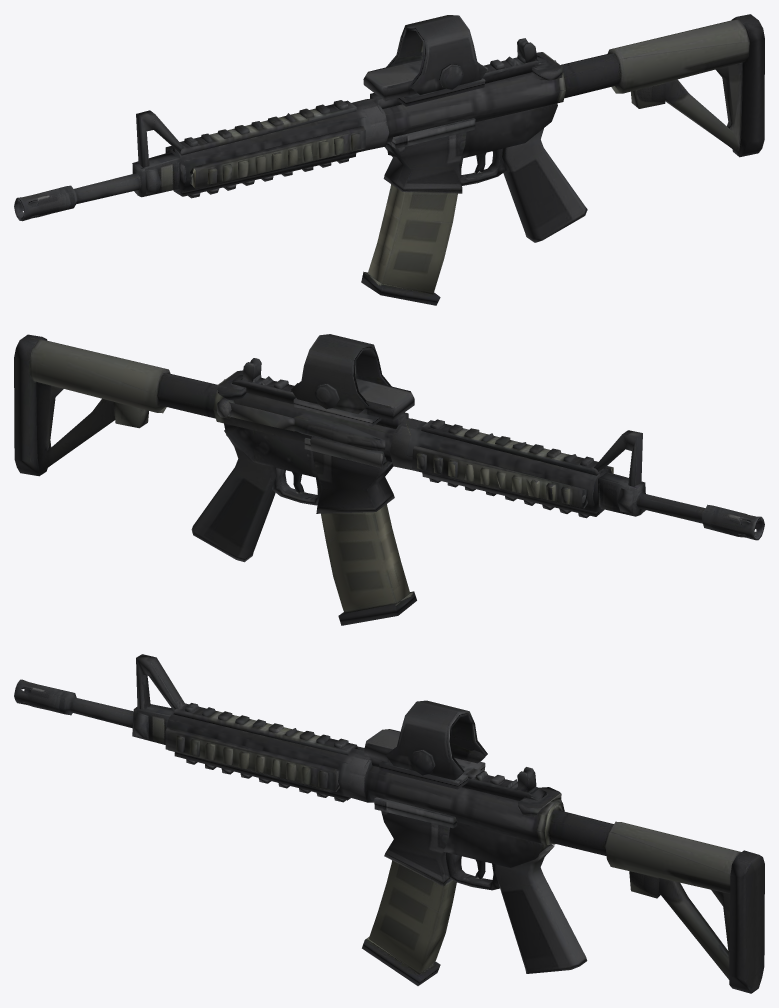
Rendered from ar-CDrXot1o.glb.
3 views of the same model, one above another, from view 1: azimuth 30°, elevation 25°; view 2: azimuth 150°, elevation 25°; view 3: azimuth 330°, elevation 25° (orthographic).
Size of the model in its own units: 1 by 0.3587 by 0.086.
1 material, 1 textured.
